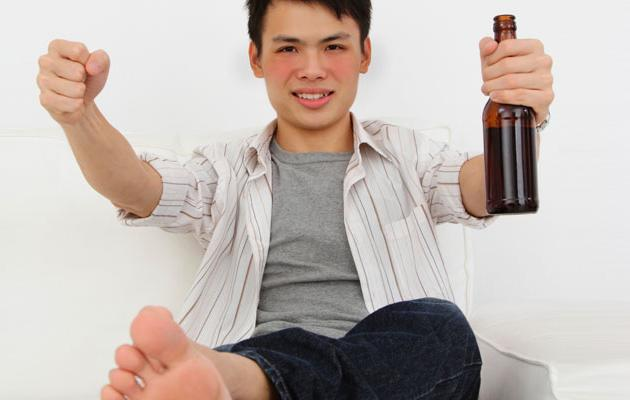Drunk: (264, 2, 359, 123)
